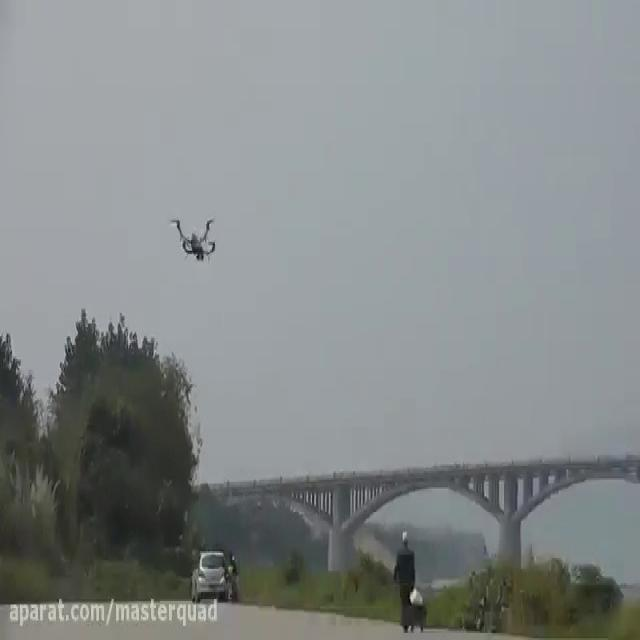drone: (167, 212, 218, 263)
